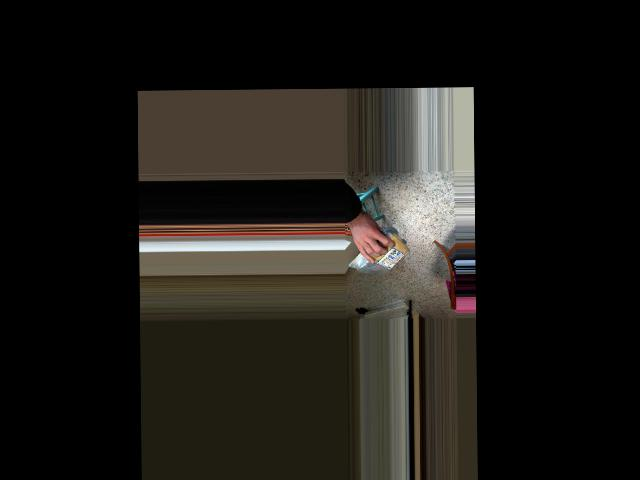cheese: (346, 237, 407, 271)
